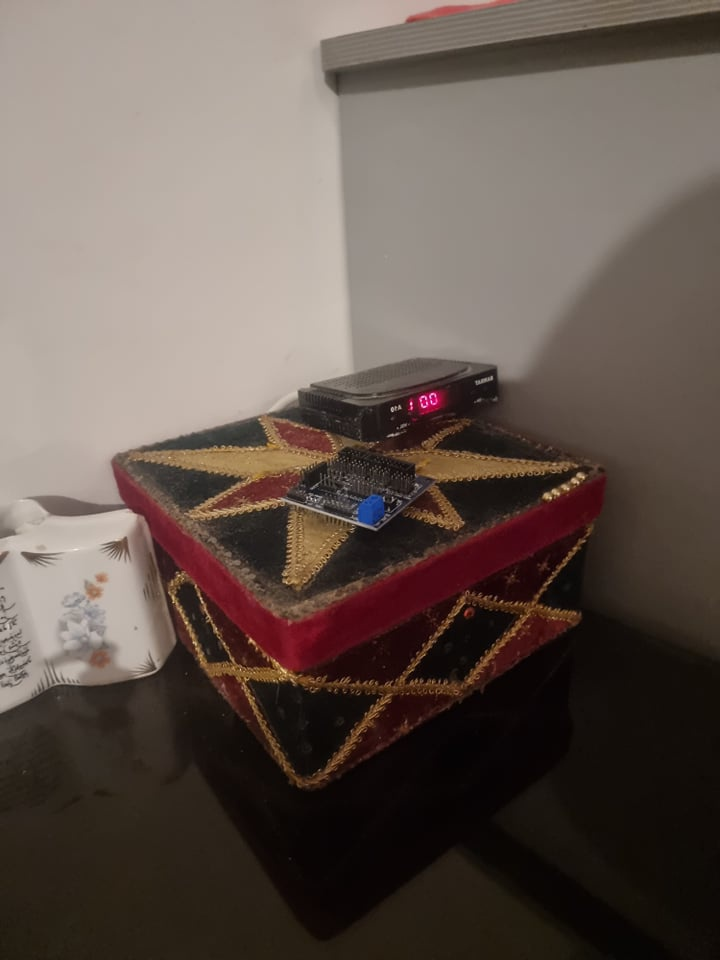5V EXPANSION: (281, 443, 437, 533)
